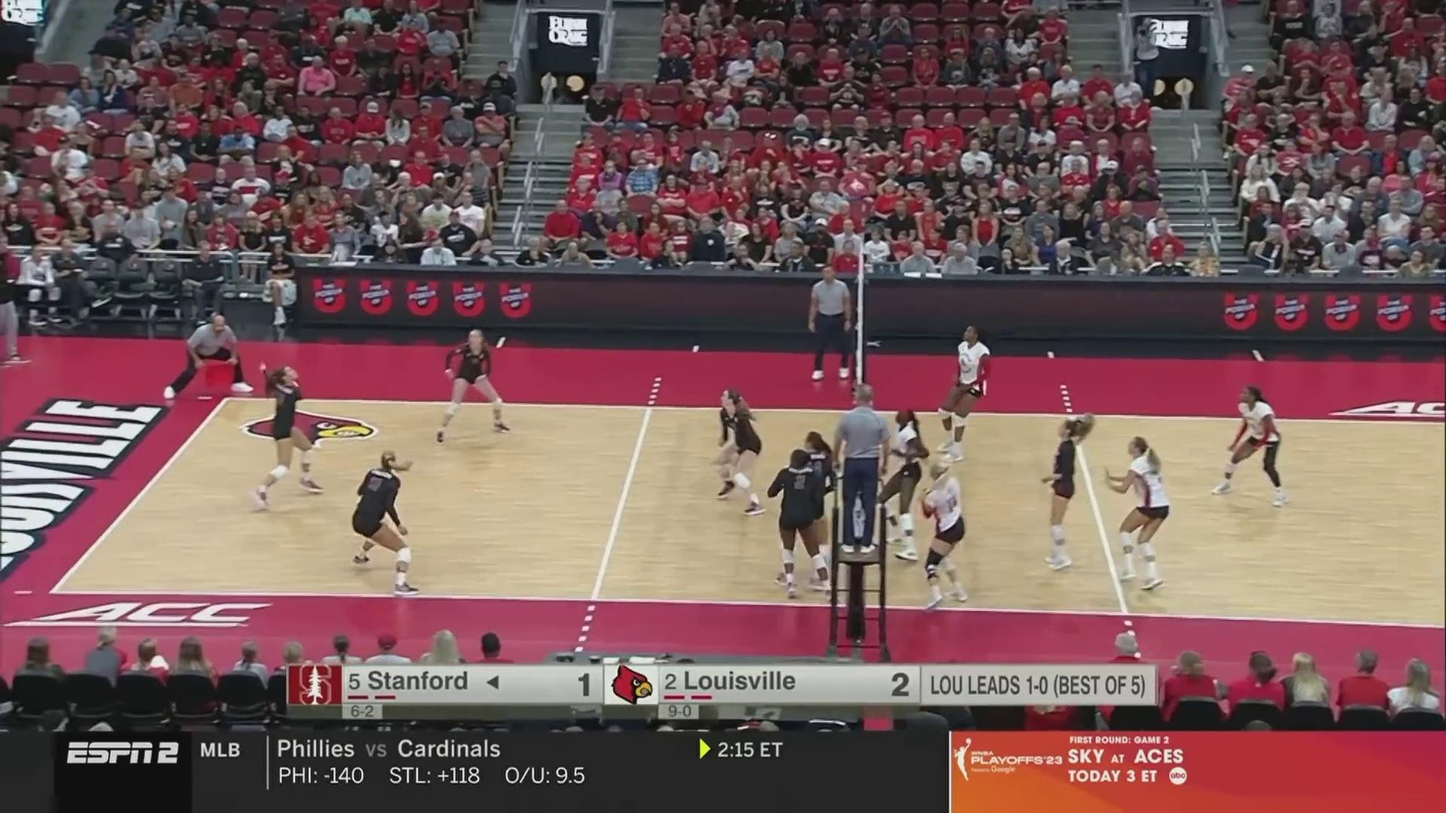player: (250, 368, 328, 507), (1107, 435, 1175, 587), (771, 453, 839, 603), (774, 431, 839, 585), (351, 453, 418, 595), (1216, 390, 1293, 505), (918, 460, 977, 609), (440, 327, 517, 441), (935, 327, 996, 461), (1047, 416, 1096, 575), (880, 410, 927, 561), (711, 390, 763, 509)
refree: (830, 389, 891, 554), (168, 311, 256, 400), (809, 262, 850, 383)
